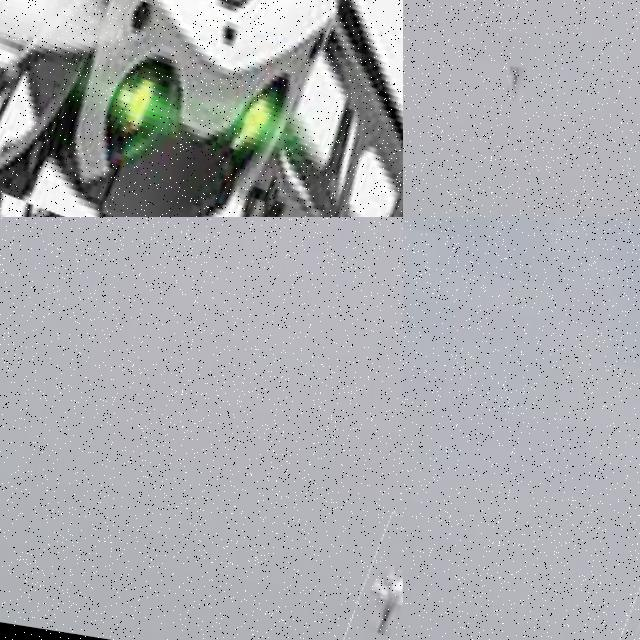drone: (0, 0, 403, 217), (348, 511, 403, 640)
